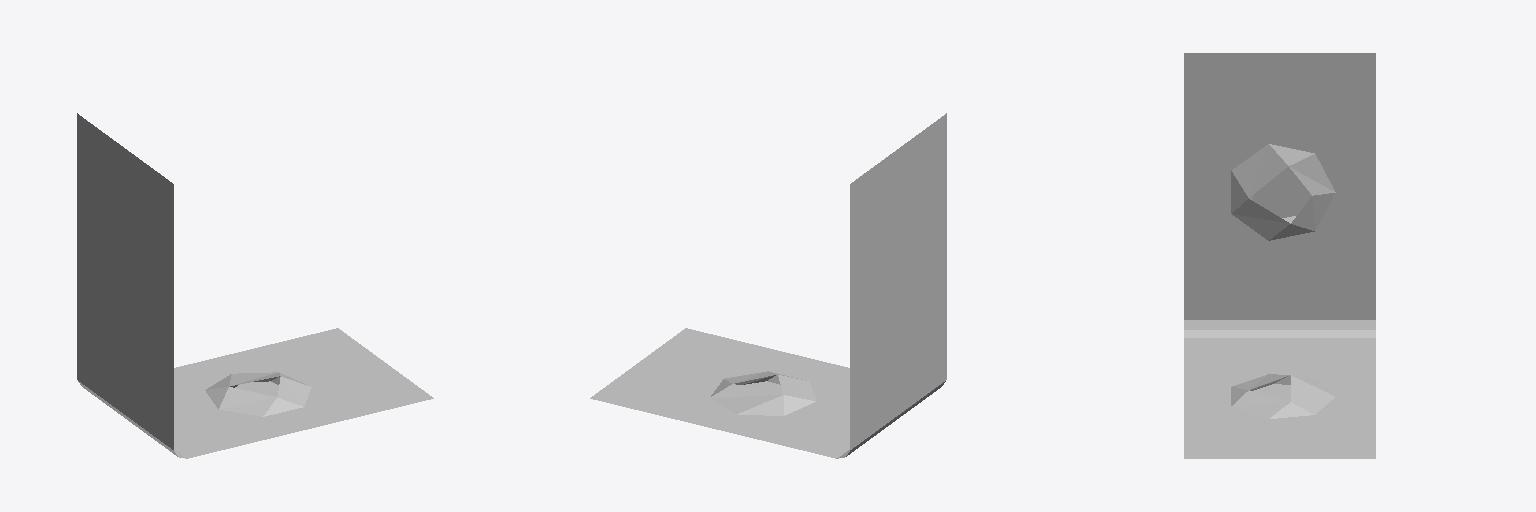
Rendered from corner.obj.
3 renders of one model, left to right at view 1: azimuth 30°, elevation 25°; view 2: azimuth 150°, elevation 25°; view 3: azimuth 270°, elevation 25°, orthographic.
Visible parts, largest first — view 1: Object.1; view 2: Object.1; view 3: Object.1.
Boxes of the visible parts, <box> form: Object.1: <box>77,113,433,458</box>; Object.1: <box>590,113,946,458</box>; Object.1: <box>1184,53,1375,458</box>.
Bounding box in the file's own units: 91.64 × 93.44 × 58.69.